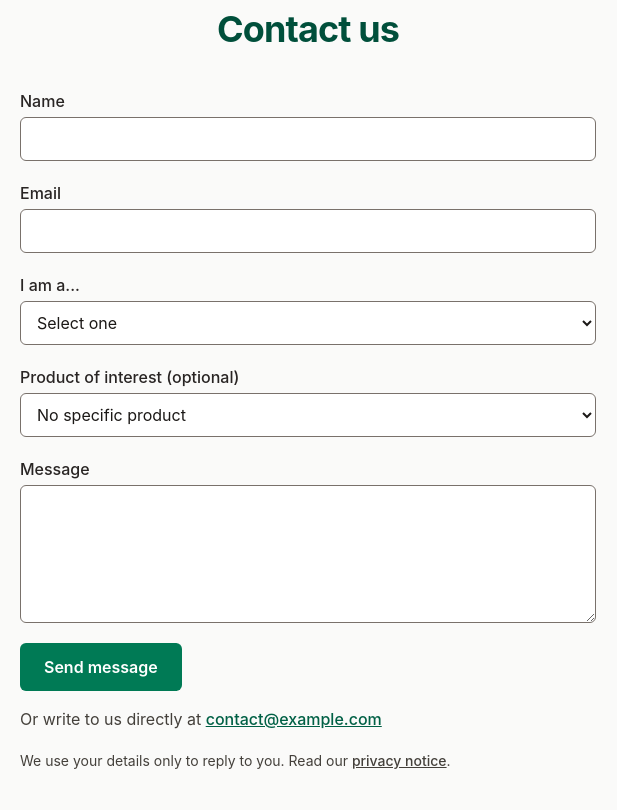
Test: ContactSection › expected errors › shows an error for a badly formatted email and sends nothing
In the field with id "contact-name": (308, 139) [20, 117, 596, 161], type "Test Visitor"
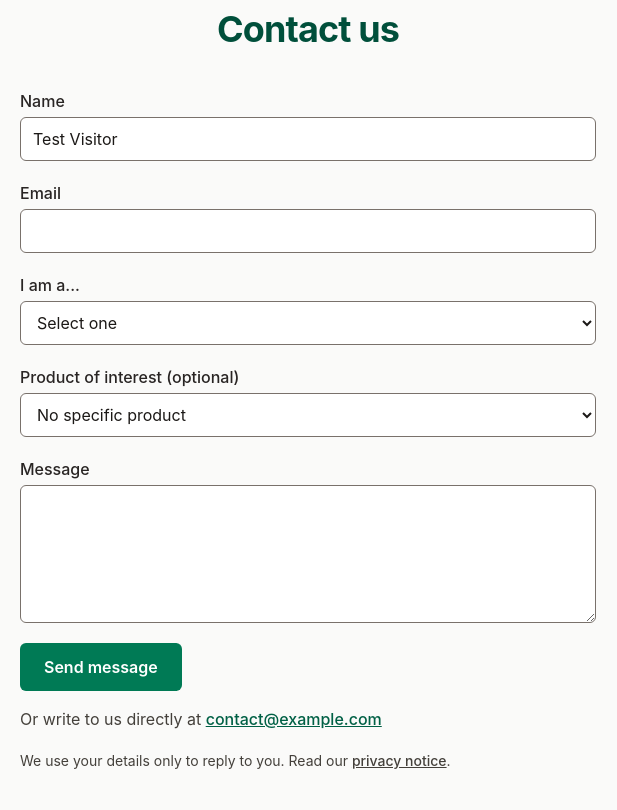
In the field with id "contact-email": (308, 231) [20, 209, 596, 253], type "visitor@example.com"
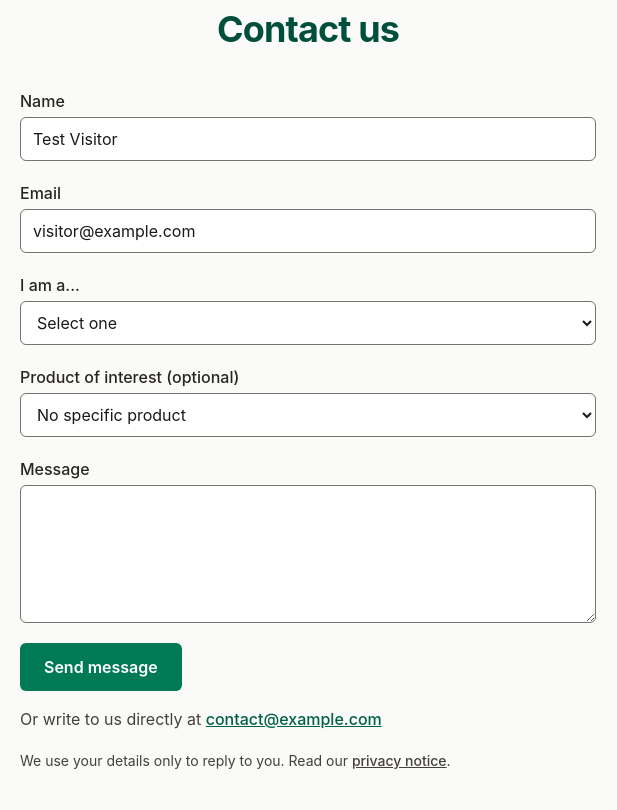
Select "Architect" in the dropdown with id "contact-visitor-type": (308, 323) [20, 301, 596, 345]
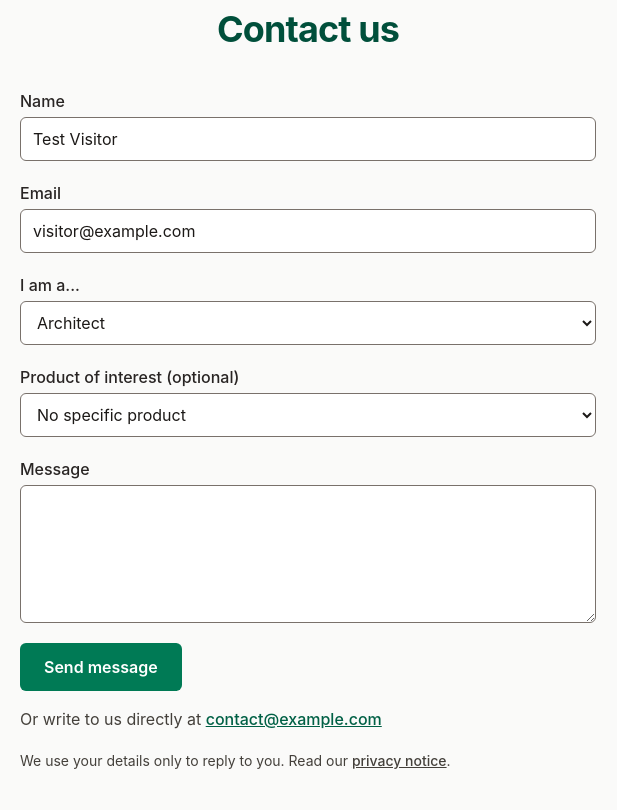
In the text box with id "contact-message": (308, 554) [20, 485, 596, 623], type "Test message."
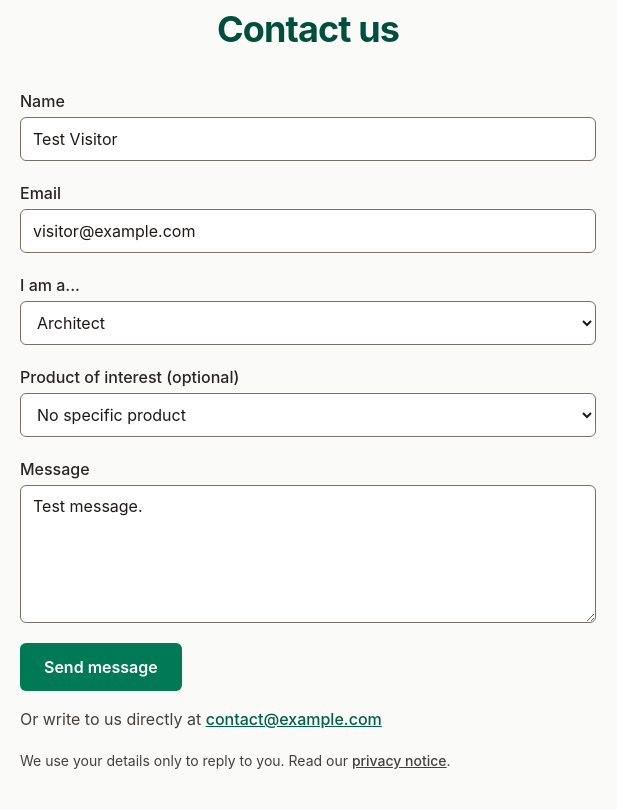
Replace the text in the field with id "contact-email" with "not-an-email": (308, 231) [20, 209, 596, 253]
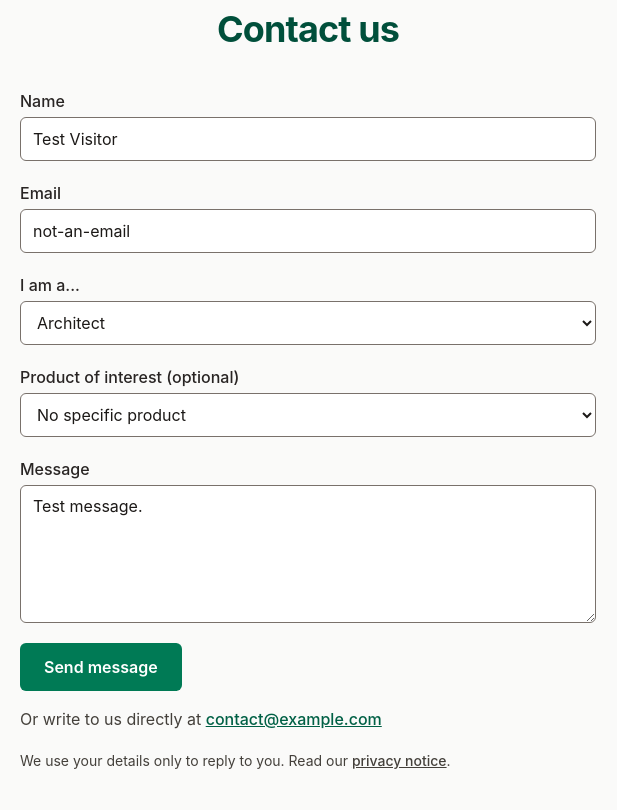
Submit the form
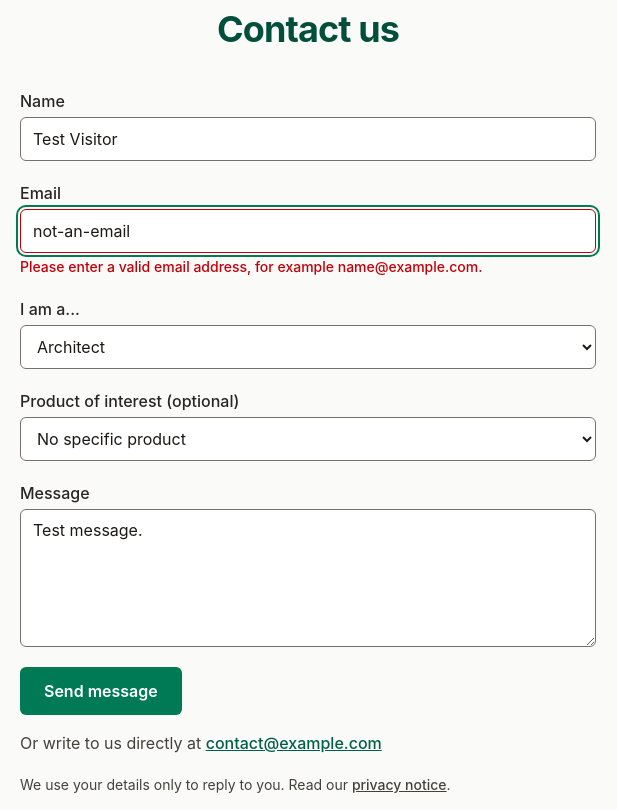
Result: the message with id "contact-email-error" reads "Please enter a valid email address, for example name@example.com." at [20, 258, 482, 275]
